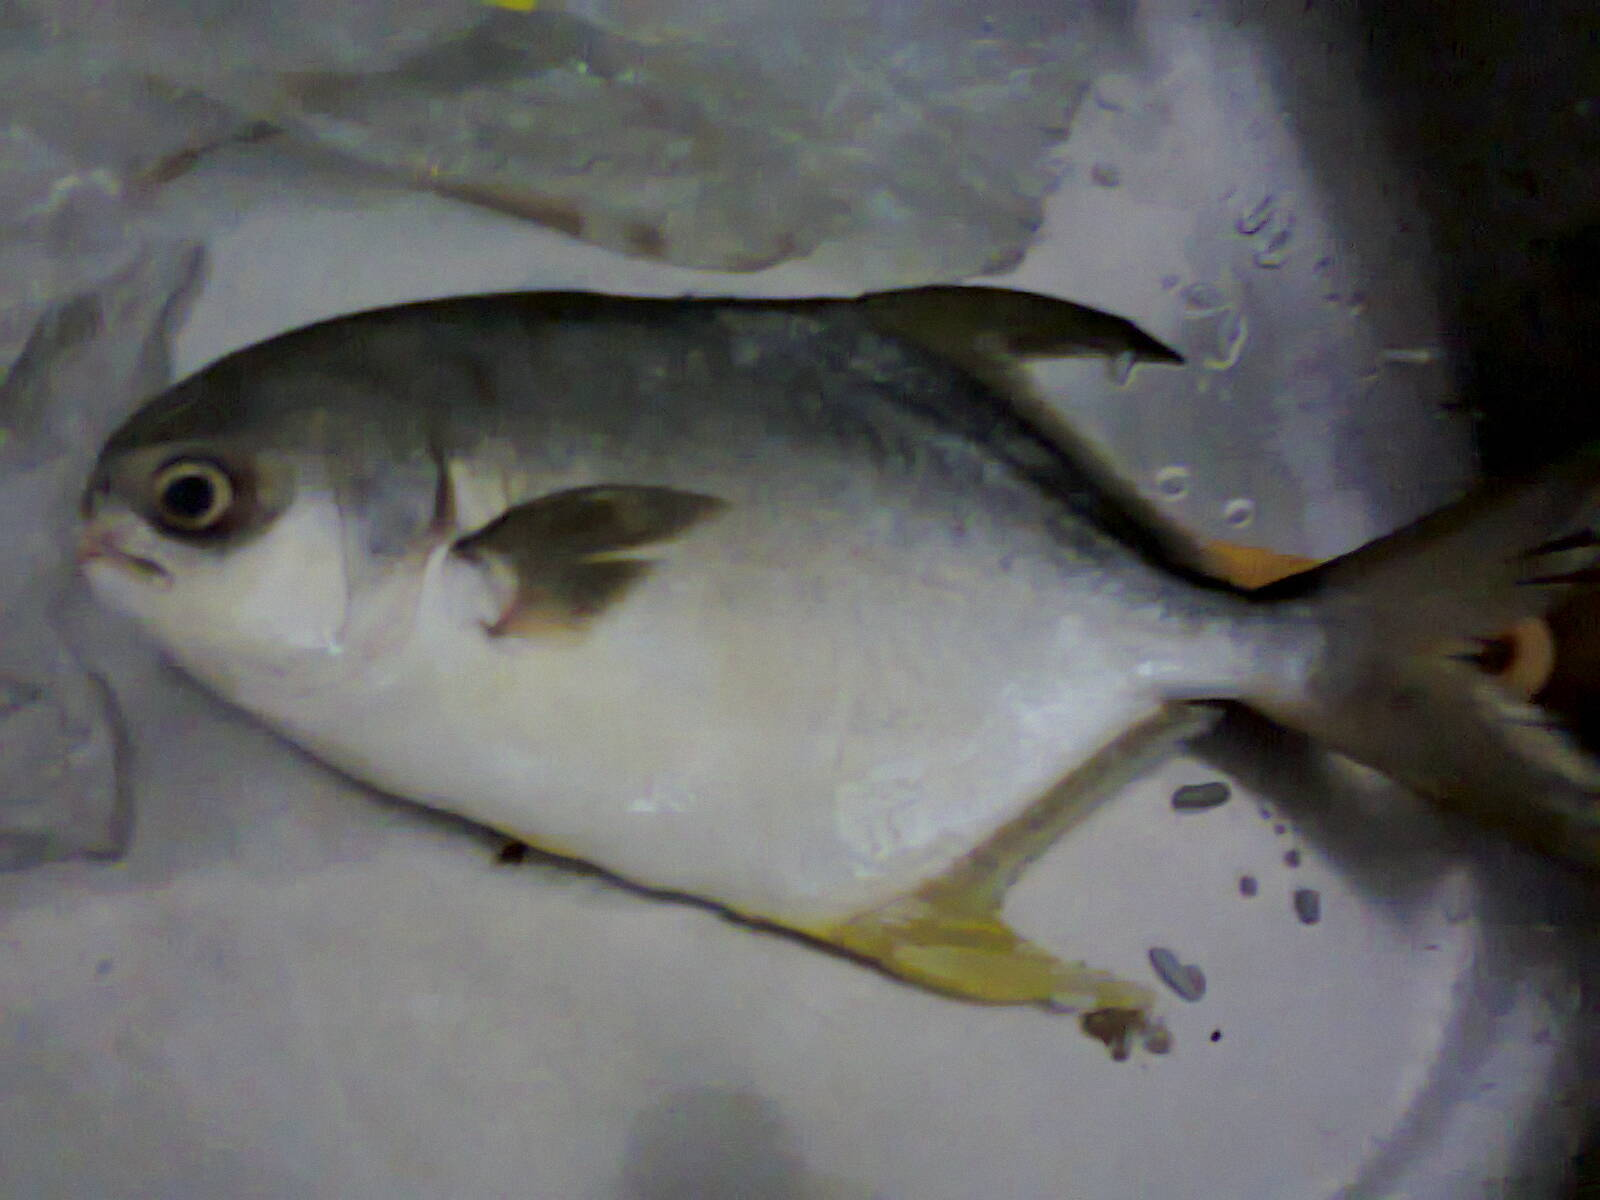Ikan Bawal: (59, 266, 1600, 1018)
